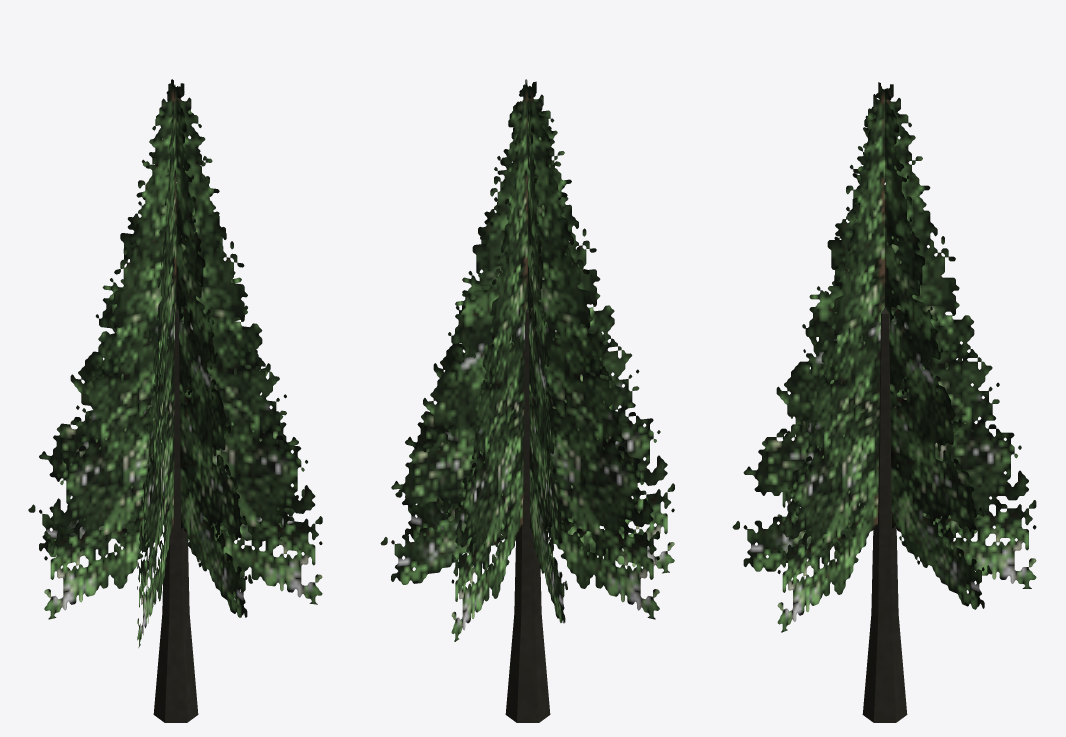
File: tree10.glb
3 renders of one model, left to right at view 1: azimuth 30°, elevation 25°; view 2: azimuth 150°, elevation 25°; view 3: azimuth 270°, elevation 25°, orthographic.
Parts seen in each view (by area): view 1: tree10; view 2: tree10; view 3: tree10.
Boxes of the visible parts, bbox=[...] form: tree10: bbox=[28, 79, 322, 722]; tree10: bbox=[380, 79, 674, 722]; tree10: bbox=[732, 82, 1036, 722].
Bounding box in the file's own units: 6 × 12.5 × 6.
Materials: 1 (1 with a texture image).
